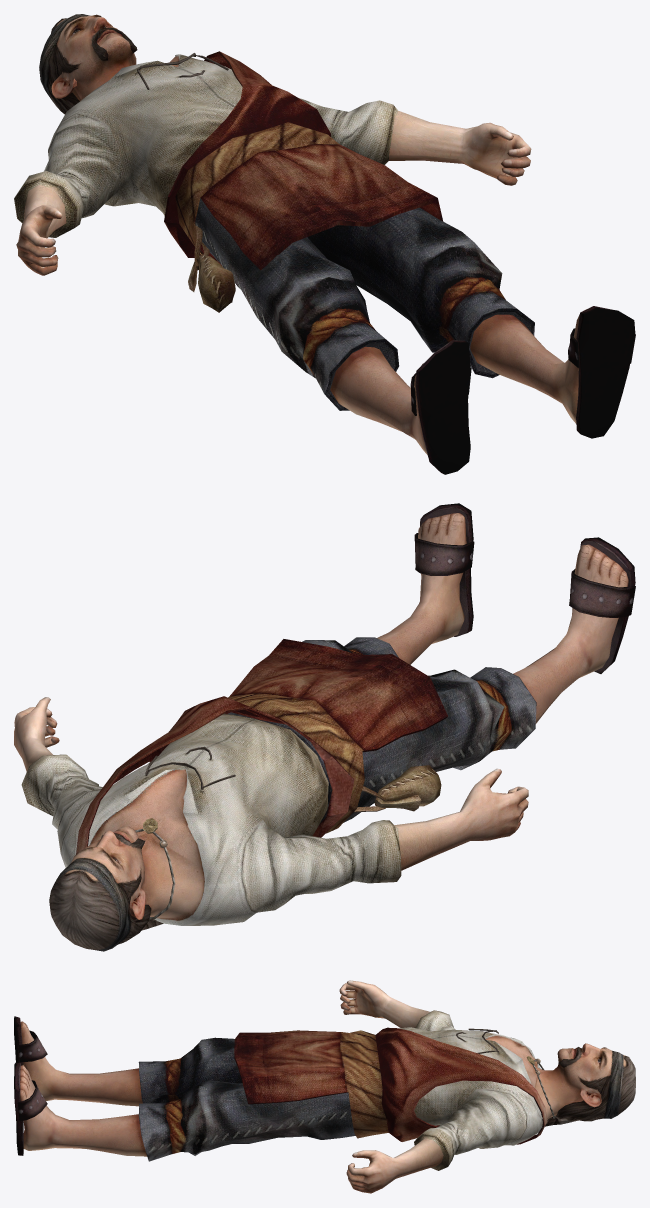
Rendered from pirates-bartender-02.obj.
The picture shows the model from 3 angles, top to bottom: view 1: azimuth 30°, elevation 25°; view 2: azimuth 150°, elevation 25°; view 3: azimuth 270°, elevation 25°; orthographic projection. The views are drawn at different scales.
Parts seen in each view (by area): view 1: pirates-bartender-02; view 2: pirates-bartender-02; view 3: pirates-bartender-02.
Boxes of the visible parts, left/top/right/bottom form: pirates-bartender-02: left=14, top=14, right=635, bottom=474; pirates-bartender-02: left=14, top=503, right=635, bottom=951; pirates-bartender-02: left=14, top=980, right=635, bottom=1193.
Bounding box in the file's own units: 0.0109 × 0.00343 × 0.0171.
1 material, 1 textured.
